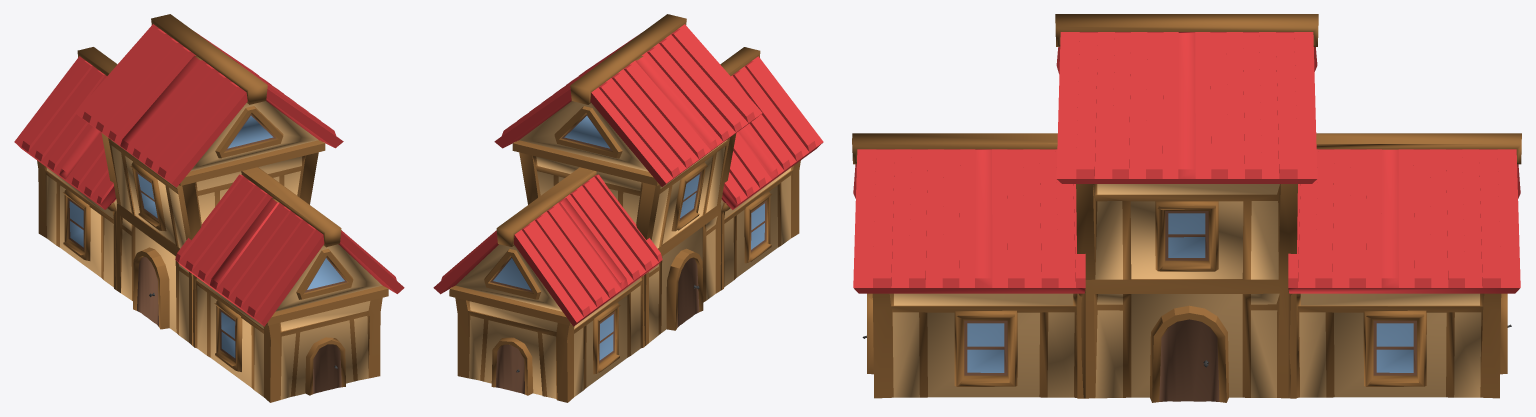
Rendered from HouseChief.fbx.
3 views of the same model, side by side, from view 1: azimuth 30°, elevation 25°; view 2: azimuth 150°, elevation 25°; view 3: azimuth 270°, elevation 25° (orthographic). The views are drawn at different scales.
Visible parts, largest first — view 1: Cube.005; view 2: Cube.005; view 3: Cube.005.
Boxes of the visible parts, x1,y1,x2,y2 form: Cube.005: (14,14,404,402); Cube.005: (433,14,823,402); Cube.005: (852,14,1521,402).
Bounding box in the file's own units: 403 × 567 × 1005.
